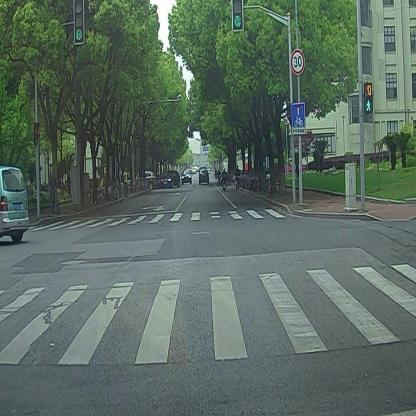Green Light: (72, 2, 86, 46), (232, 0, 244, 33)
